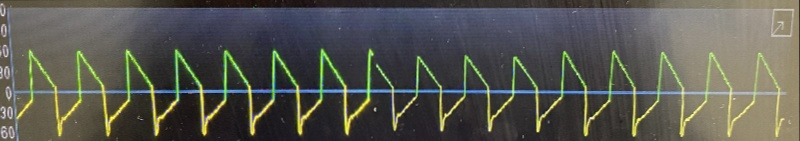peepi: (16, 43, 780, 140)
